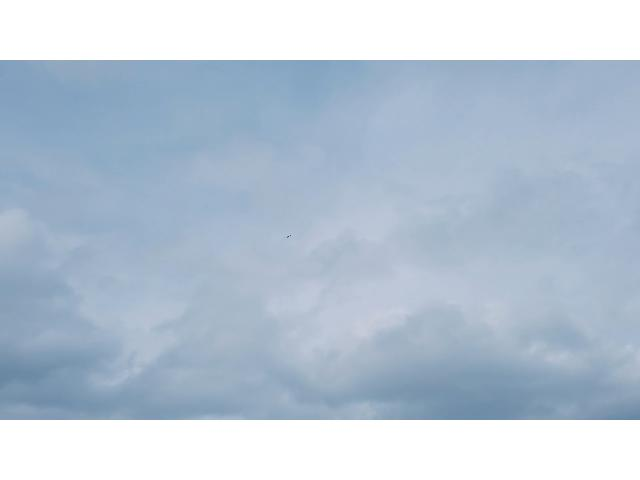Anti-Drone: (285, 232, 293, 240)
